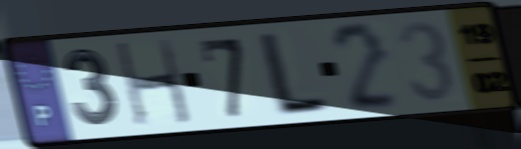2: (330, 18, 408, 117)
3: (395, 17, 459, 107), (61, 45, 120, 131)
7: (197, 35, 246, 120)
H: (112, 36, 195, 130)
L: (257, 28, 332, 120)
